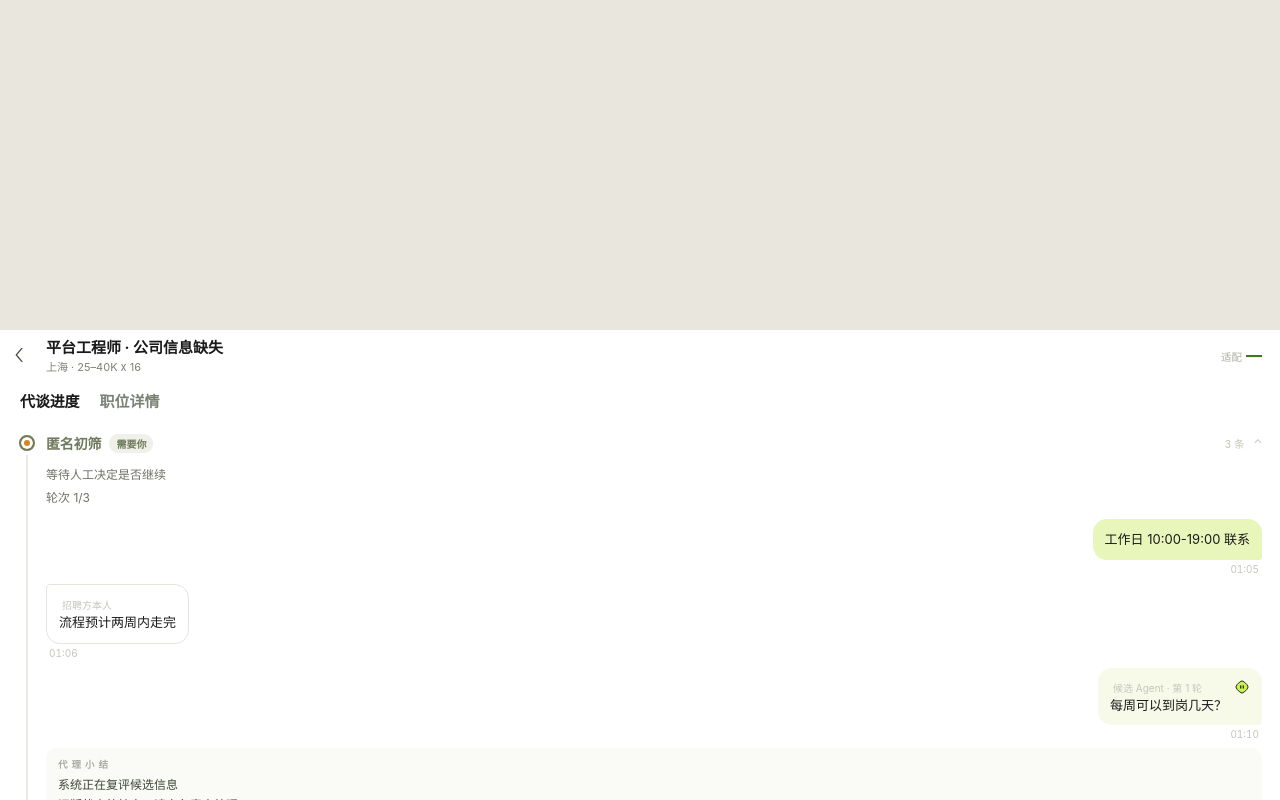
Test: MatchCase详情 · 资料 Tab 与完整缺失区（Task 3） › 缺资料：分析/JD/要求/公司五元行/标签/对接人都有标题或标签及缺失；冻结摘要与缺口说明在场
(page scrolled)
Check: the text "平台工程师 · 公司信息缺失" is shown, box [46,338,223,357]
Click the button "职位详情".
click(129, 400)  # box [99,390,159,411]
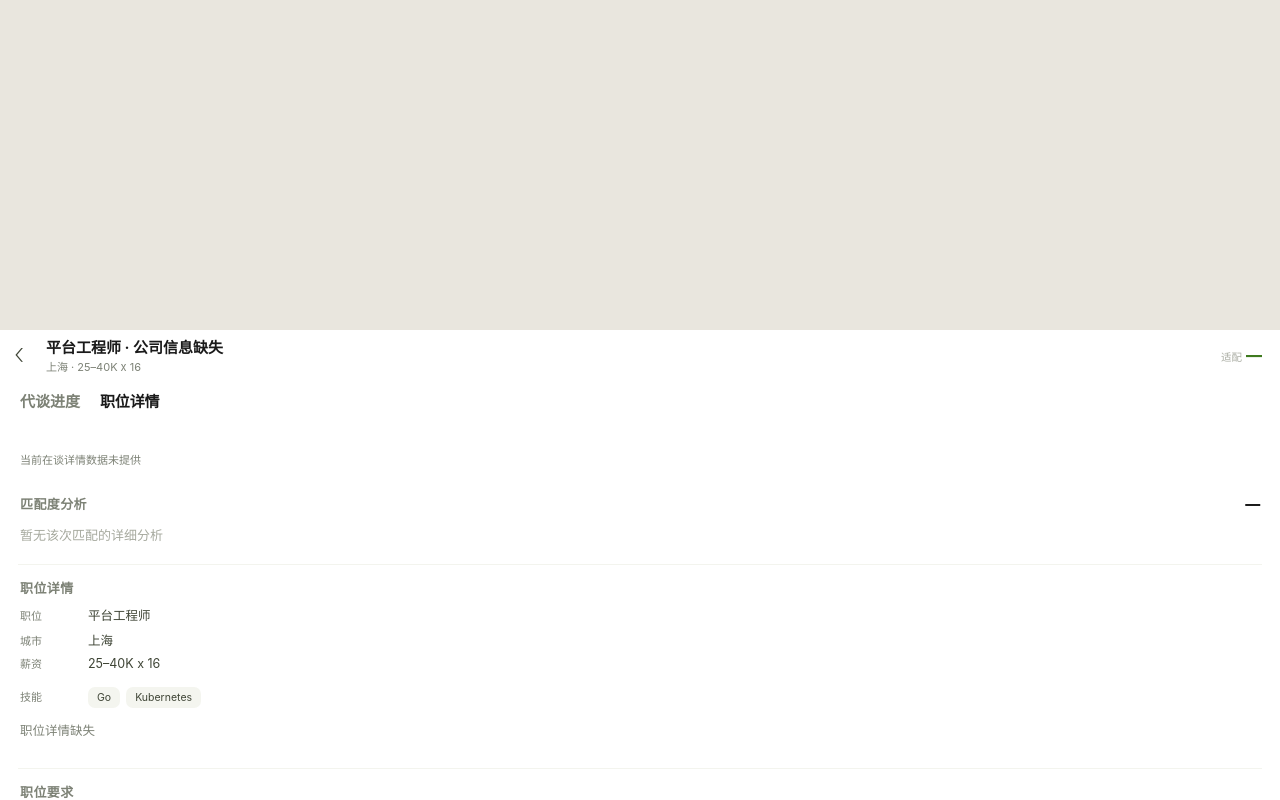
Check: the text "匹配度分析" is shown, box [20,494,87,513]
Check: the text "职位要求" is shown, box [20,784,74,799]
Check: the text "暂无该次匹配的详细分析" is shown, box [20,527,163,543]
